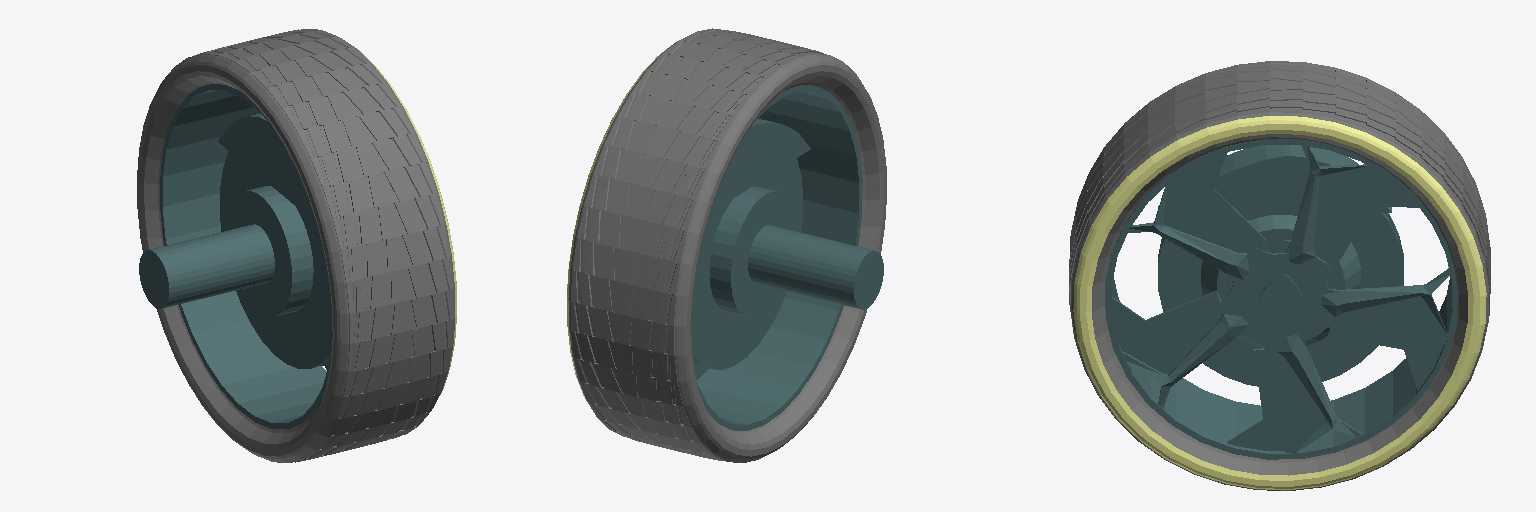
The model's file is lambo_altvr-tire_back_left.obj.
3 views of the same model, side by side, from view 1: azimuth 30°, elevation 25°; view 2: azimuth 150°, elevation 25°; view 3: azimuth 270°, elevation 25° (orthographic).
Parts seen in each view (by area): view 1: lambo_altvr-tire_back_left.obj; view 2: lambo_altvr-tire_back_left.obj; view 3: lambo_altvr-tire_back_left.obj.
Boxes of the visible parts, x1=… form: lambo_altvr-tire_back_left.obj: x1=137, y1=29, x2=456, y2=462; lambo_altvr-tire_back_left.obj: x1=567, y1=28, x2=886, y2=462; lambo_altvr-tire_back_left.obj: x1=1069, y1=61, x2=1490, y2=490.
Bounding box in the file's own units: 0.5124 × 0.9239 × 0.9239.